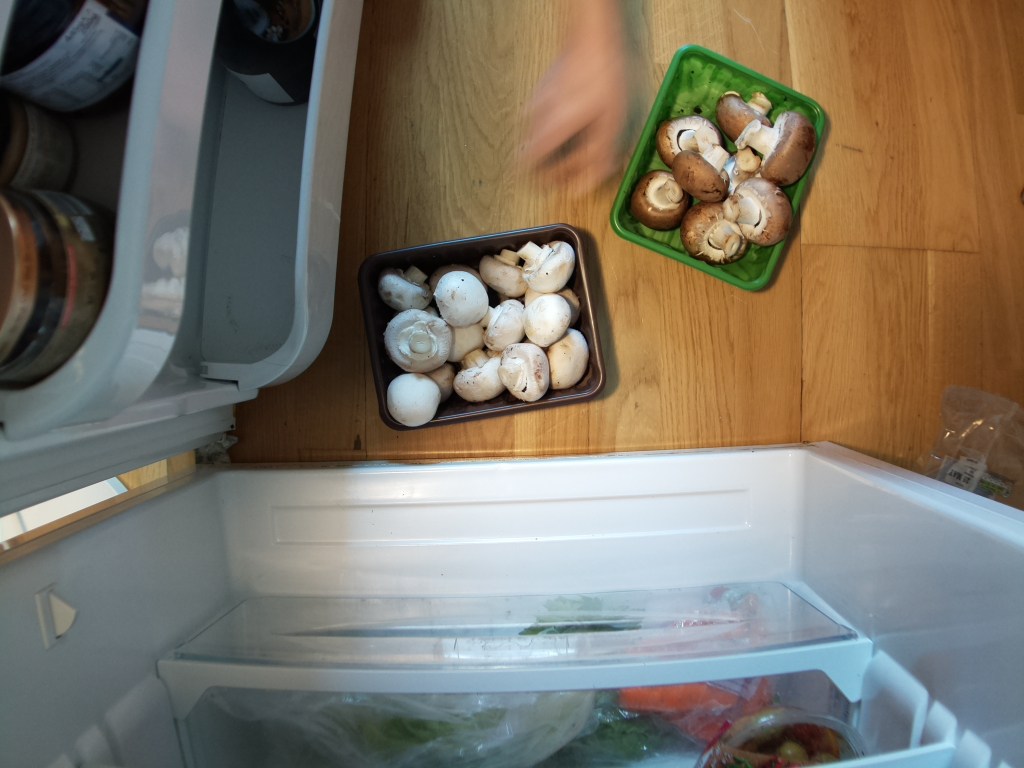mushrooms: (611, 35, 834, 300), (359, 221, 613, 432)
